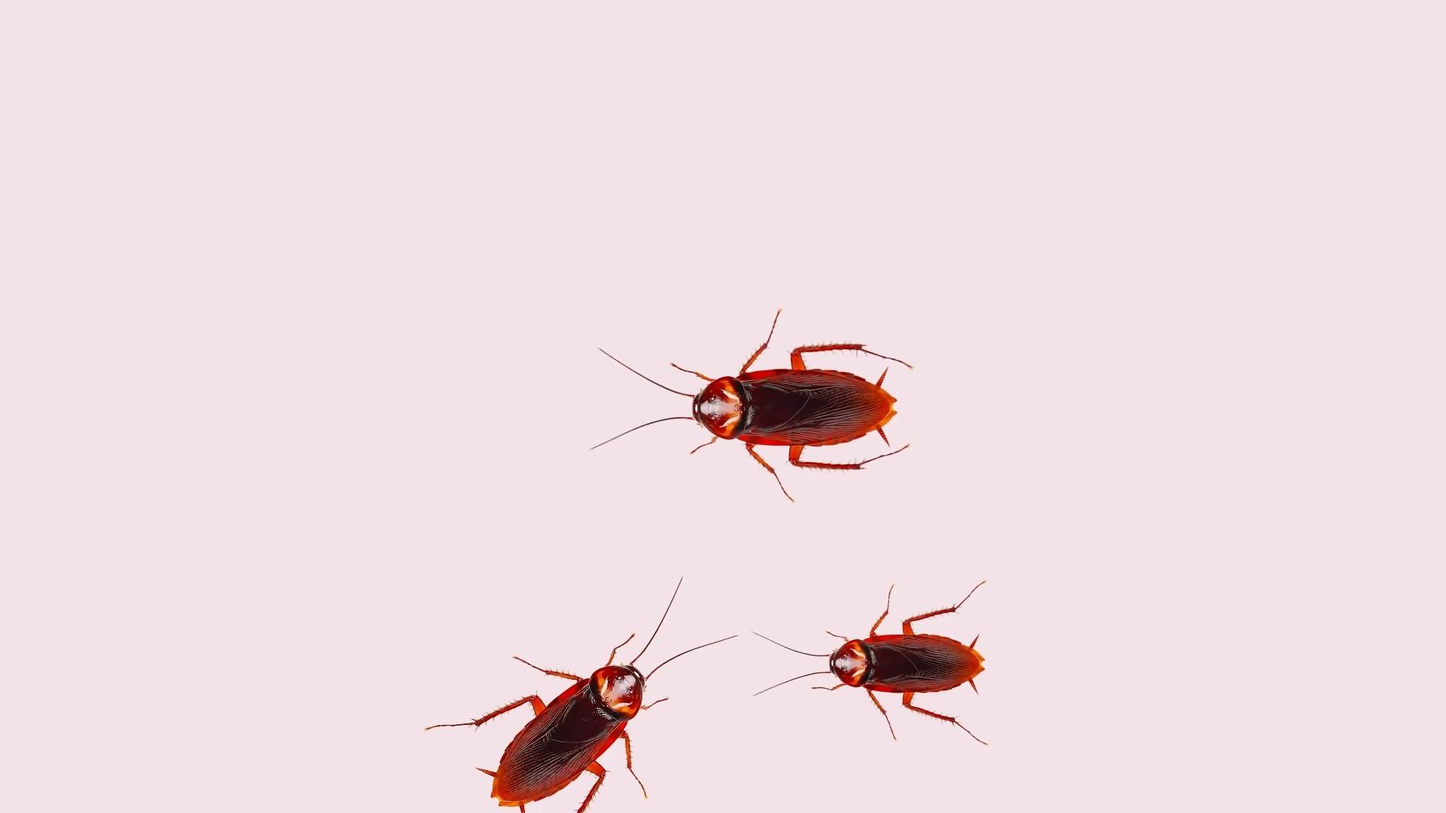cockroach: (609, 328, 921, 491), (477, 631, 667, 813), (793, 589, 1009, 721)
